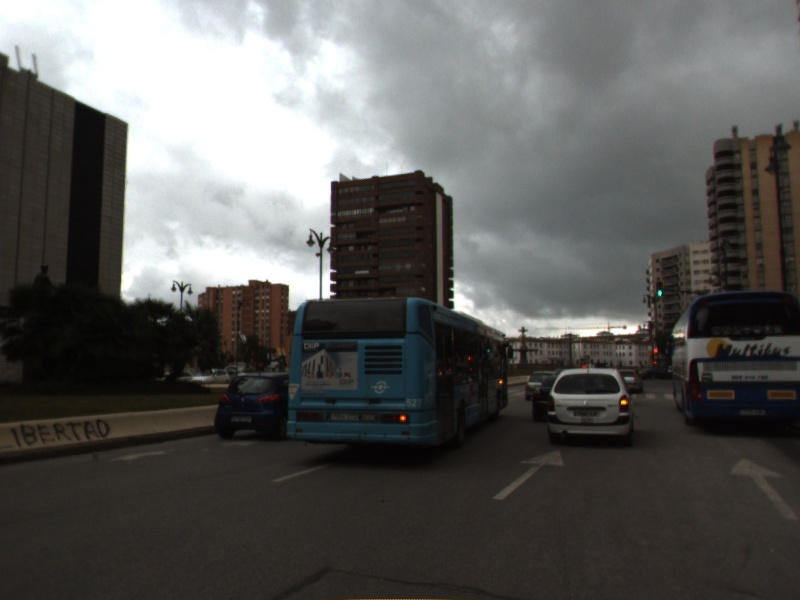STRAIGHT: (728, 455, 800, 522), (489, 447, 567, 502)
